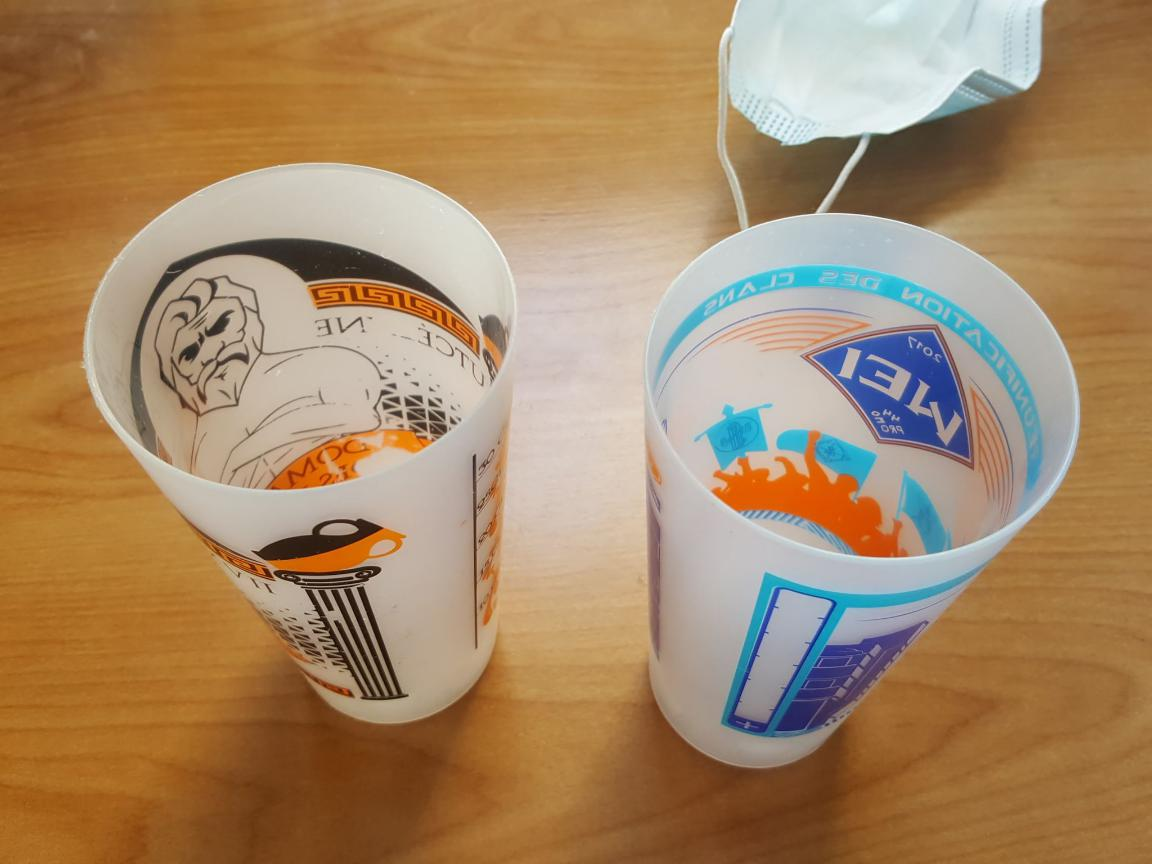ecocup: (641, 210, 1082, 776), (84, 161, 516, 731)
